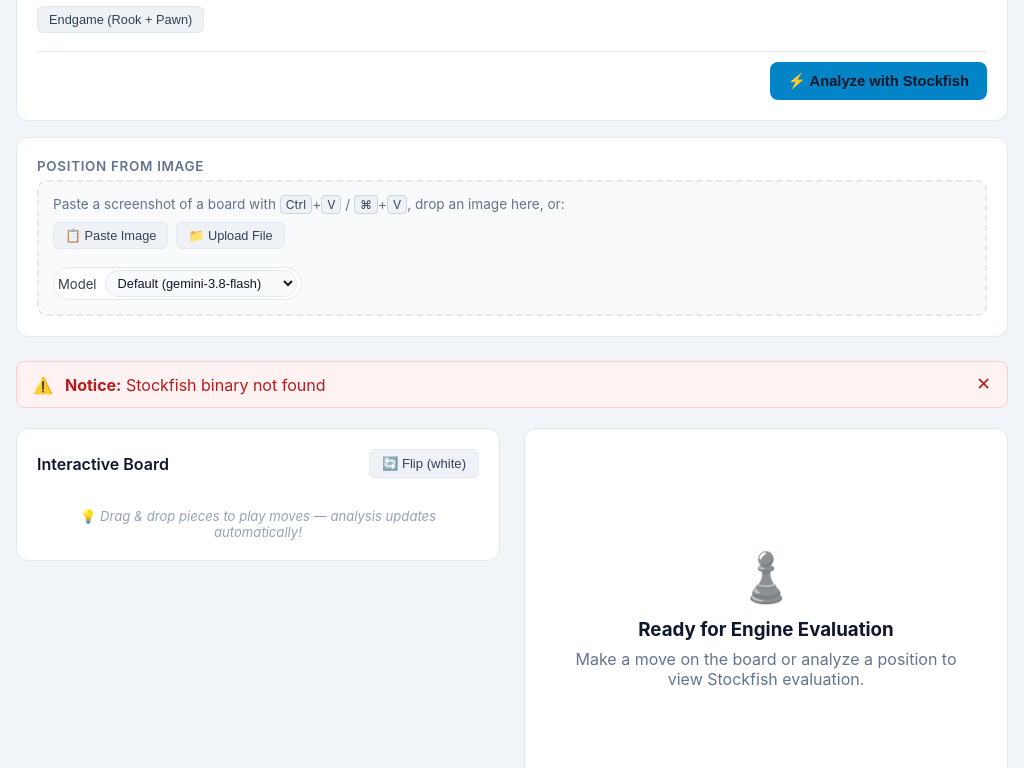
App start-up › shows an analysis error in a banner that can be closed
(page scrolled)
Expected: the text "Stockfish binary not found" is shown, [126,374,326,394]
Click the button named "Close" at (984, 384), box [976,374,991,395]
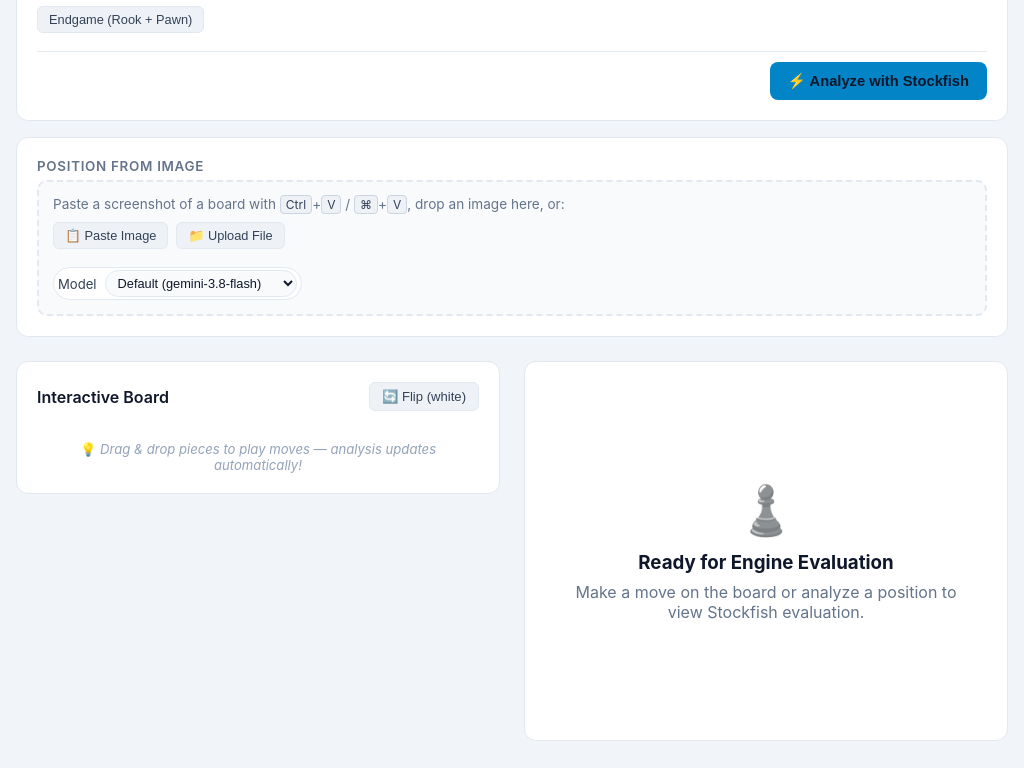
Expected: the text "Stockfish binary not found" is gone
